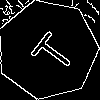T: (23, 25, 79, 77)
